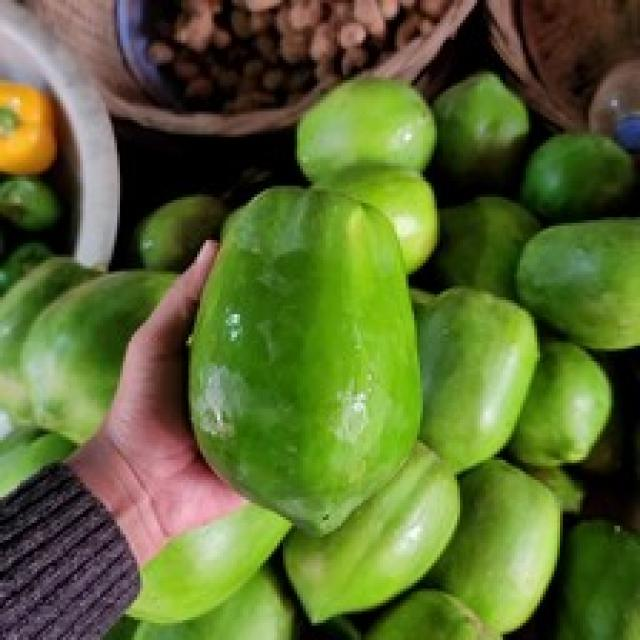Pepaya unrippen: (186, 180, 426, 530), (427, 281, 531, 468), (296, 78, 440, 178)
